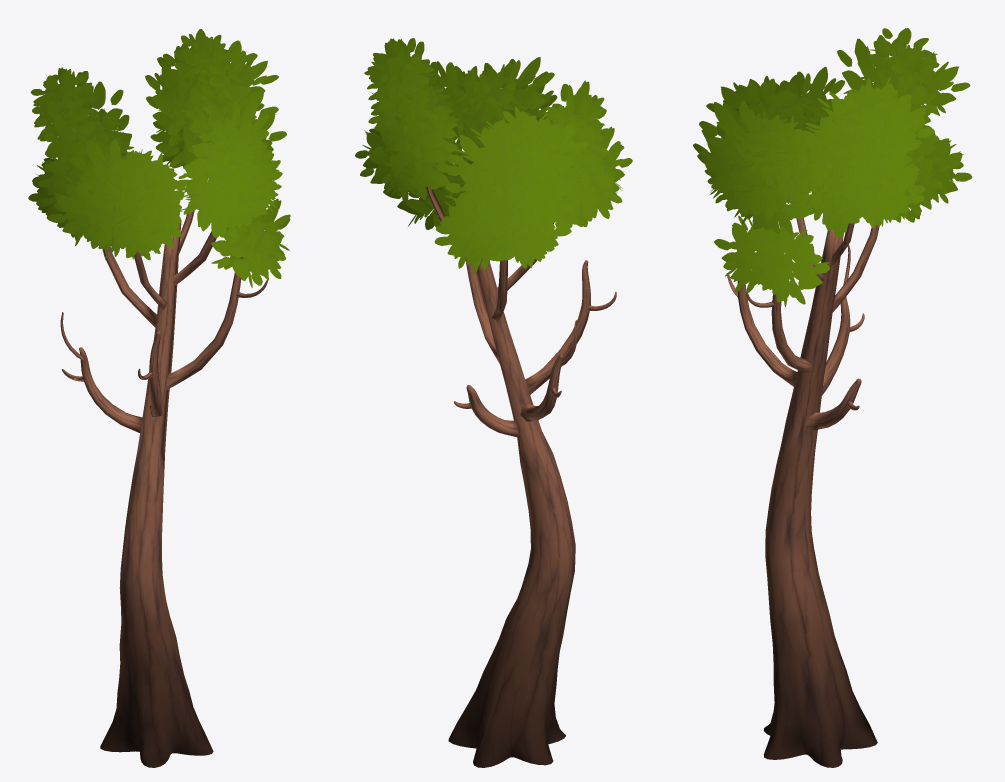
The model's file is tree-other-1-young.glb.
The picture shows the model from 3 angles, left to right: view 1: azimuth 30°, elevation 25°; view 2: azimuth 150°, elevation 25°; view 3: azimuth 270°, elevation 25°; orthographic projection. The views are drawn at different scales.
Visible parts, largest first — view 1: CommonTree_4; view 2: CommonTree_4; view 3: CommonTree_4.
Part boxes in pixels (x1,y1,x2,y2): CommonTree_4: [28, 29, 290, 767]; CommonTree_4: [355, 38, 632, 767]; CommonTree_4: [693, 28, 972, 767].
Bounding box in the file's own units: 0.9728 × 2.4 × 0.9549.
2 materials, 2 textured.
